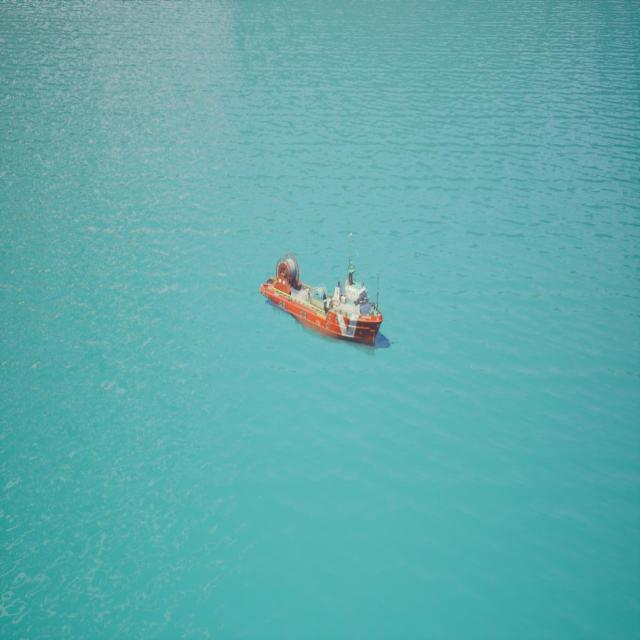tug boat: (261, 255, 390, 352)
